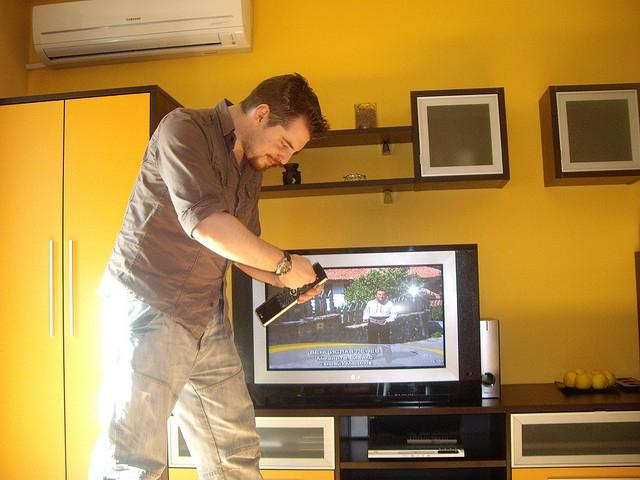lemon: (575, 372, 592, 390), (592, 374, 609, 389), (602, 370, 616, 387), (564, 371, 577, 388), (590, 370, 603, 376), (575, 368, 585, 374)
